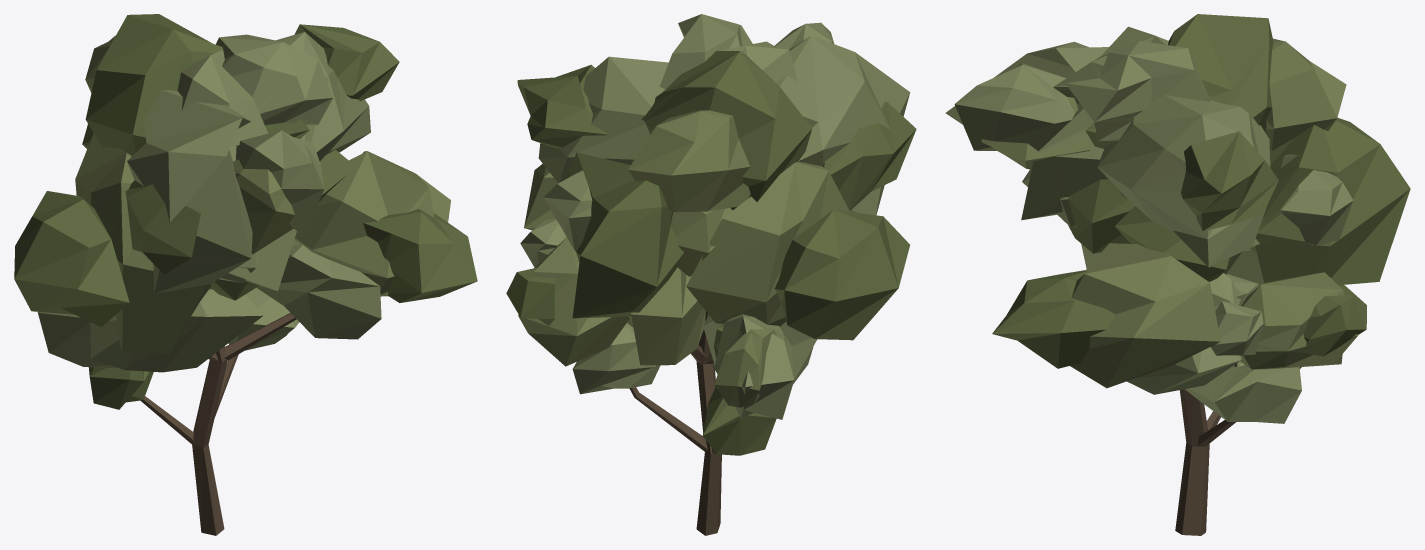
3 views of the same model, side by side, from view 1: azimuth 30°, elevation 25°; view 2: azimuth 150°, elevation 25°; view 3: azimuth 270°, elevation 25° (orthographic). The views are drawn at different scales.
Parts seen in each view (by area): view 1: compact-reduced-75; view 2: compact-reduced-75; view 3: compact-reduced-75.
Part boxes in pixels (bbox=[...]): compact-reduced-75: bbox=[14, 14, 477, 535]; compact-reduced-75: bbox=[506, 14, 916, 535]; compact-reduced-75: bbox=[945, 14, 1410, 535].
Size of the model in its own units: 17.44 by 20.77 by 17.41.
